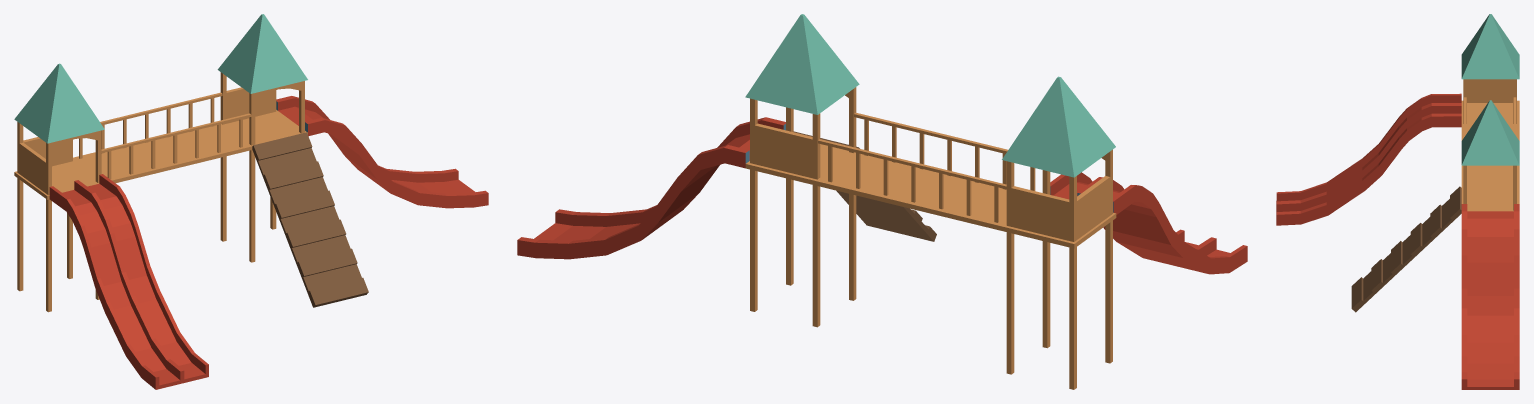
The model's file is Environment_Objects_Child_Park.fbx.
3 views of the same model, side by side, from view 1: azimuth 30°, elevation 25°; view 2: azimuth 150°, elevation 25°; view 3: azimuth 270°, elevation 25° (orthographic). The views are drawn at different scales.
Parts seen in each view (by area): view 1: Environment_Objects_Child_Park; view 2: Environment_Objects_Child_Park; view 3: Environment_Objects_Child_Park.
Part boxes in pixels (left/top/right/bottom): Environment_Objects_Child_Park: left=14, top=14, right=488, bottom=389; Environment_Objects_Child_Park: left=517, top=14, right=1247, bottom=389; Environment_Objects_Child_Park: left=1276, top=14, right=1519, bottom=389.
Size of the model in its own units: 785 by 391 by 430.
